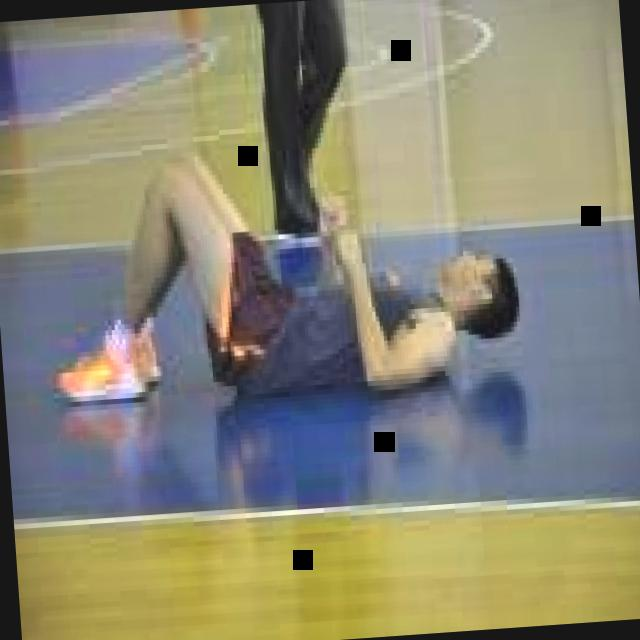Fall-Detected: (27, 124, 536, 408)
